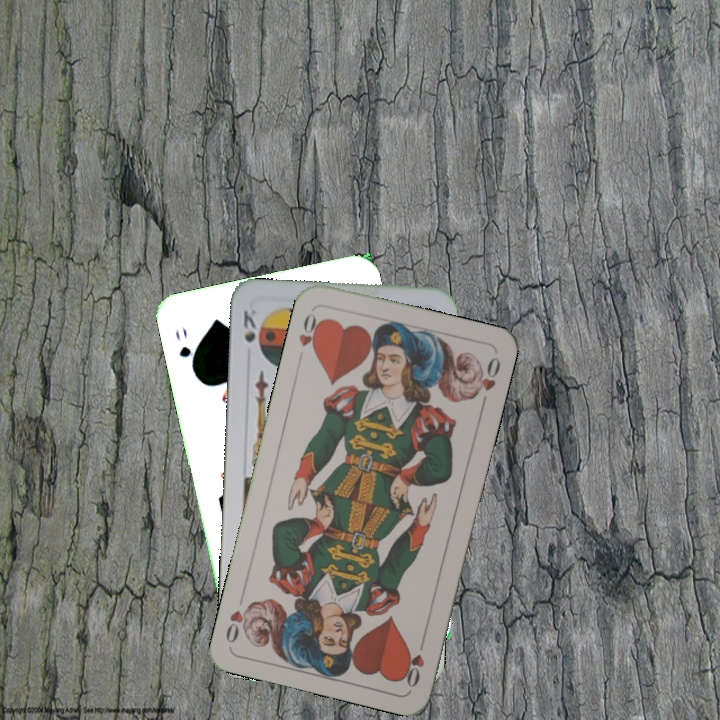GO: (171, 323, 199, 375)
HO: (400, 632, 428, 691), (295, 306, 325, 356)
SK: (239, 305, 261, 345)
